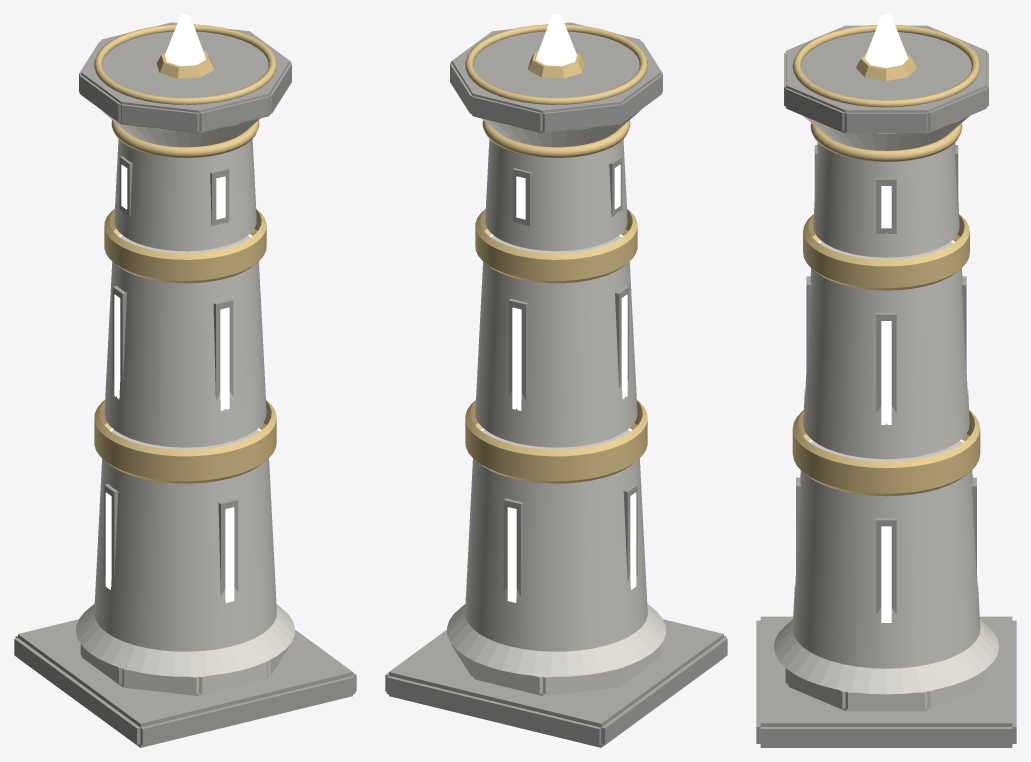
File: warden_pylon.glb
The picture shows the model from 3 angles, left to right: view 1: azimuth 30°, elevation 25°; view 2: azimuth 150°, elevation 25°; view 3: azimuth 270°, elevation 25°; orthographic projection. The views are drawn at different scales.
Visible parts, largest first — view 1: drum_low, drum_mid, plinth, cap, drum_high, band_low, foot_flare, band_high, step, cap_ring, slit_frame_mid, echinus (+8 smaller); view 2: drum_low, drum_mid, plinth, cap, drum_high, band_low, foot_flare, band_high, step, cap_ring, slit_frame_mid, echinus (+8 smaller); view 3: drum_low, drum_mid, plinth, cap, drum_high, band_low, foot_flare, band_high, step, cap_ring, echinus, slit_frame_mid (+8 smaller).
Part boxes in pixels (bbox=[...]): drum_low: bbox=[94, 429, 276, 651]; drum_mid: bbox=[104, 235, 266, 447]; plinth: bbox=[14, 619, 356, 747]; cap: bbox=[79, 22, 291, 133]; drum_high: bbox=[114, 139, 256, 251]; band_low: bbox=[94, 400, 276, 483]; foot_flare: bbox=[76, 604, 294, 676]; band_high: bbox=[104, 209, 266, 283]; step: bbox=[80, 644, 290, 695]; cap_ring: bbox=[94, 24, 276, 104]; slit_frame_mid: bbox=[112, 285, 233, 399]; echinus: bbox=[97, 107, 260, 147]; drum_low: bbox=[465, 429, 647, 651]; drum_mid: bbox=[475, 235, 637, 447]; plinth: bbox=[385, 619, 727, 747]; cap: bbox=[450, 22, 662, 133]; drum_high: bbox=[485, 139, 627, 251]; band_low: bbox=[465, 400, 647, 483]; foot_flare: bbox=[447, 604, 665, 676]; band_high: bbox=[475, 209, 637, 283]; step: bbox=[451, 644, 661, 695]; cap_ring: bbox=[465, 24, 647, 104]; slit_frame_mid: bbox=[508, 285, 629, 399]; echinus: bbox=[481, 107, 644, 147]; drum_low: bbox=[792, 441, 980, 668]; drum_mid: bbox=[803, 241, 969, 459]; plinth: bbox=[756, 616, 1016, 747]; cap: bbox=[784, 25, 988, 133]; drum_high: bbox=[813, 142, 959, 257]; band_low: bbox=[792, 410, 980, 496]; foot_flare: bbox=[774, 619, 998, 694]; band_high: bbox=[803, 214, 969, 290]; step: bbox=[785, 668, 987, 711]; cap_ring: bbox=[792, 25, 980, 107]; echinus: bbox=[803, 116, 969, 150]; slit_frame_mid: bbox=[806, 276, 966, 412].
Size of the model in its own units: 3.05 by 8.77 by 3.05.
